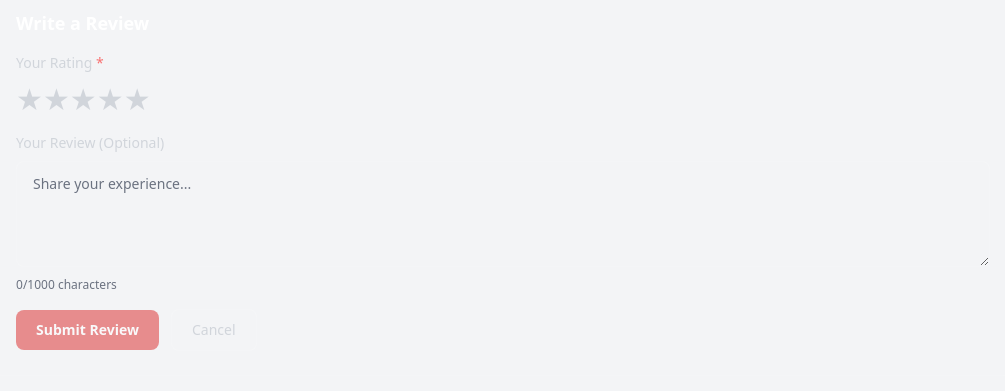
Test: ReviewForm Component › Rating Labels › shows rating label when rating is selected
What coordinates should you click on to do the following:
click the 1st button "★"
I would click on:
 (29, 99)
Its box is [16, 81, 43, 117].
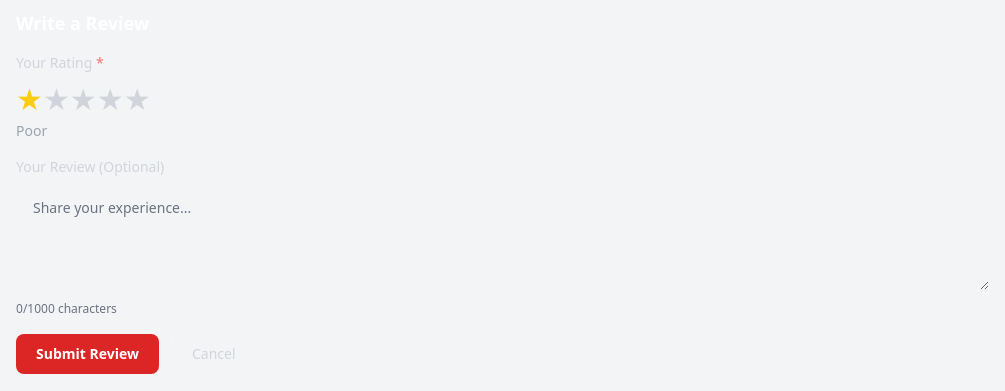
Now the text "Poor" is shown, box [16, 121, 47, 140]
What coordinates should you click on to do the following:
click the 2nd button "★"
I would click on:
 (56, 99)
Its box is [43, 81, 70, 117].
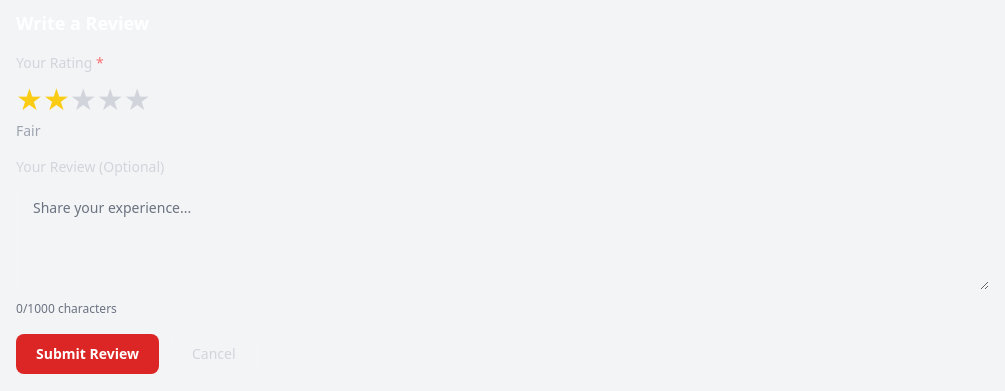
Now the text "Fair" is shown, box [16, 121, 40, 140]
What coordinates should you click on to do the following:
click the 3rd button "★"
I would click on:
 (83, 99)
Its box is [70, 81, 97, 117].
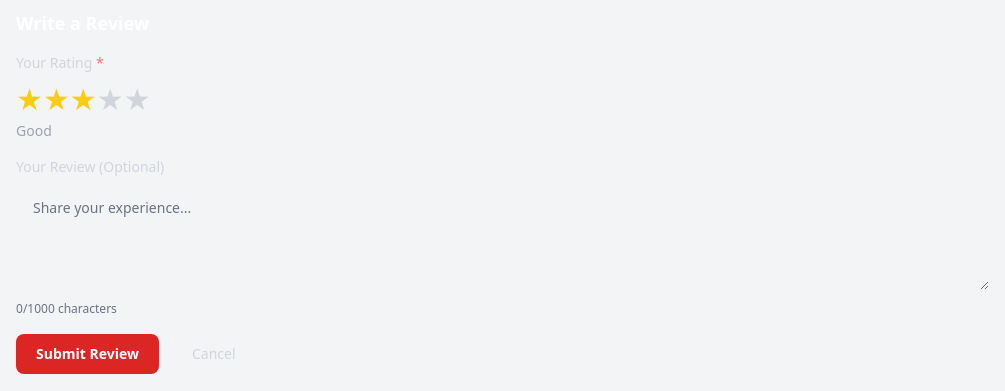
Now the text "Good" is shown, box [16, 121, 52, 140]
What coordinates should you click on to do the following:
click the 4th button "★"
I would click on:
 (110, 99)
Its box is [97, 81, 124, 117].
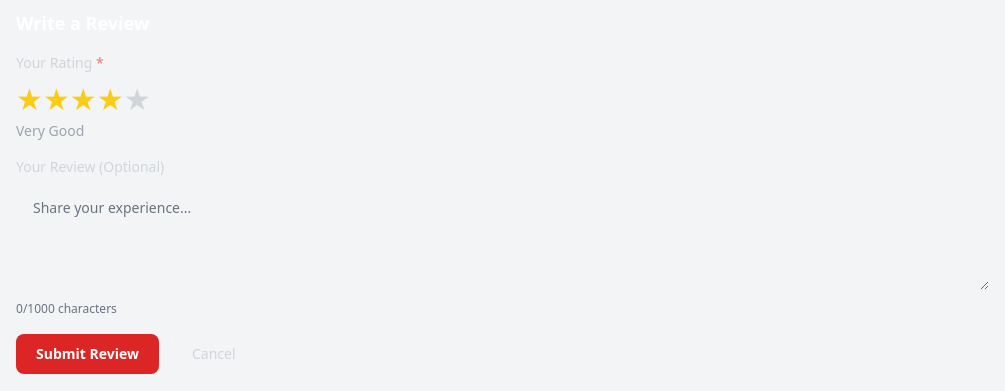
Now the text "Very Good" is shown, box [16, 121, 84, 140]
What coordinates should you click on to do the following:
click the 5th button "★"
I would click on:
 (137, 99)
Its box is [124, 81, 150, 117].
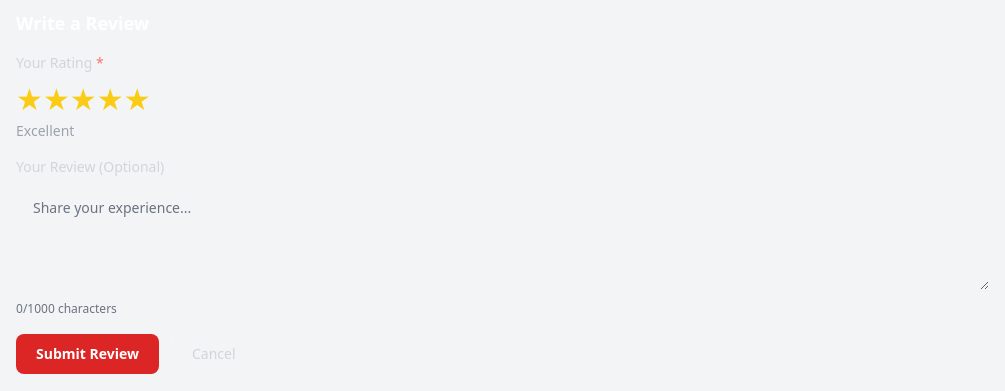
Now the text "Excellent" is shown, box [16, 121, 74, 140]
